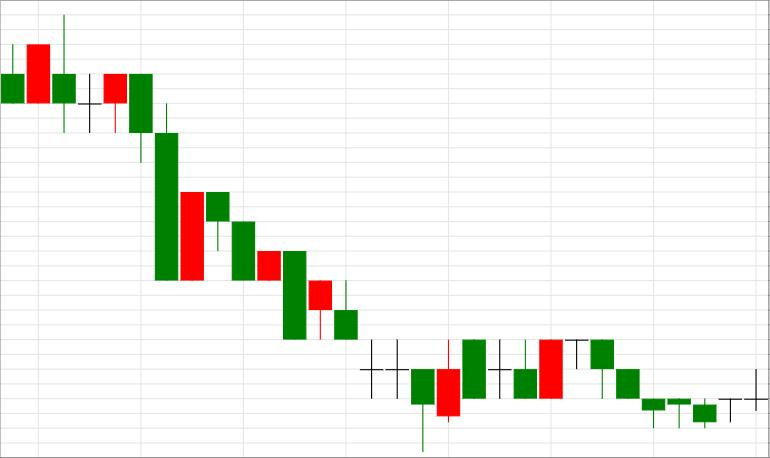hammer_rise: (206, 191, 434, 451)
